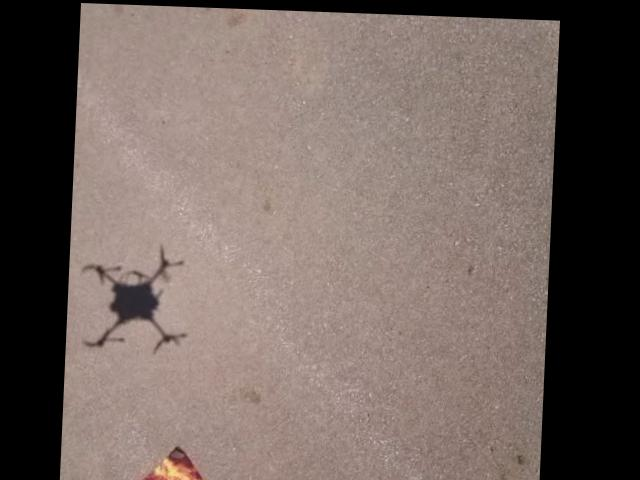fire-poster: (96, 441, 252, 480)
